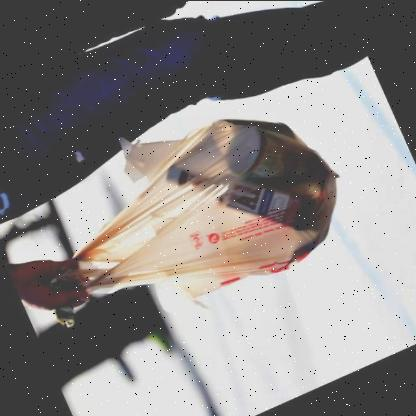Others: (53, 118, 339, 328)
